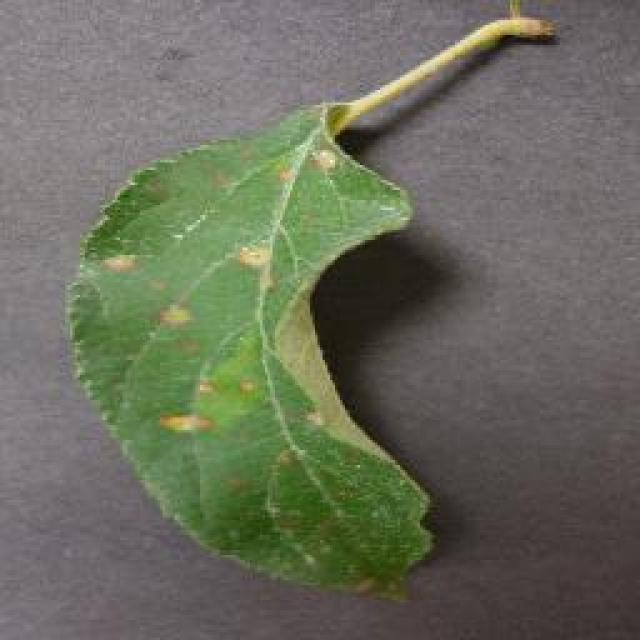apple healthy: (62, 2, 560, 602)
